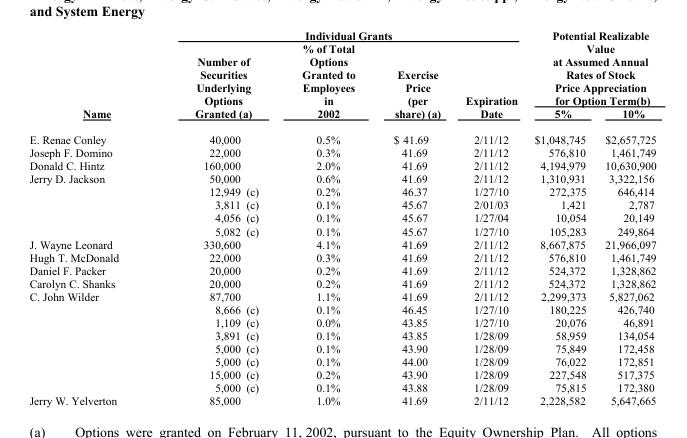table: (28, 28, 655, 406)
table column: (28, 28, 156, 406), (156, 28, 279, 406), (279, 28, 373, 406), (373, 28, 452, 406), (452, 28, 525, 406), (525, 28, 595, 406), (595, 28, 655, 406)
table column header: (28, 28, 655, 126)
table row: (28, 41, 655, 106), (28, 106, 655, 126), (28, 126, 655, 145), (28, 184, 655, 198), (28, 380, 655, 394), (28, 28, 655, 41), (28, 145, 655, 158), (28, 158, 655, 171), (28, 171, 655, 184), (28, 198, 655, 211), (28, 211, 655, 224), (28, 224, 655, 237), (28, 237, 655, 250), (28, 250, 655, 263), (28, 263, 655, 276), (28, 276, 655, 289), (28, 289, 655, 302), (28, 302, 655, 315), (28, 315, 655, 328), (28, 328, 655, 341), (28, 341, 655, 354), (28, 354, 655, 367), (28, 367, 655, 380), (28, 394, 655, 406)
table spanning cell: (28, 28, 156, 126), (156, 41, 279, 126), (525, 28, 655, 106), (279, 41, 373, 126), (373, 41, 452, 126), (452, 41, 525, 126), (156, 28, 525, 41)
